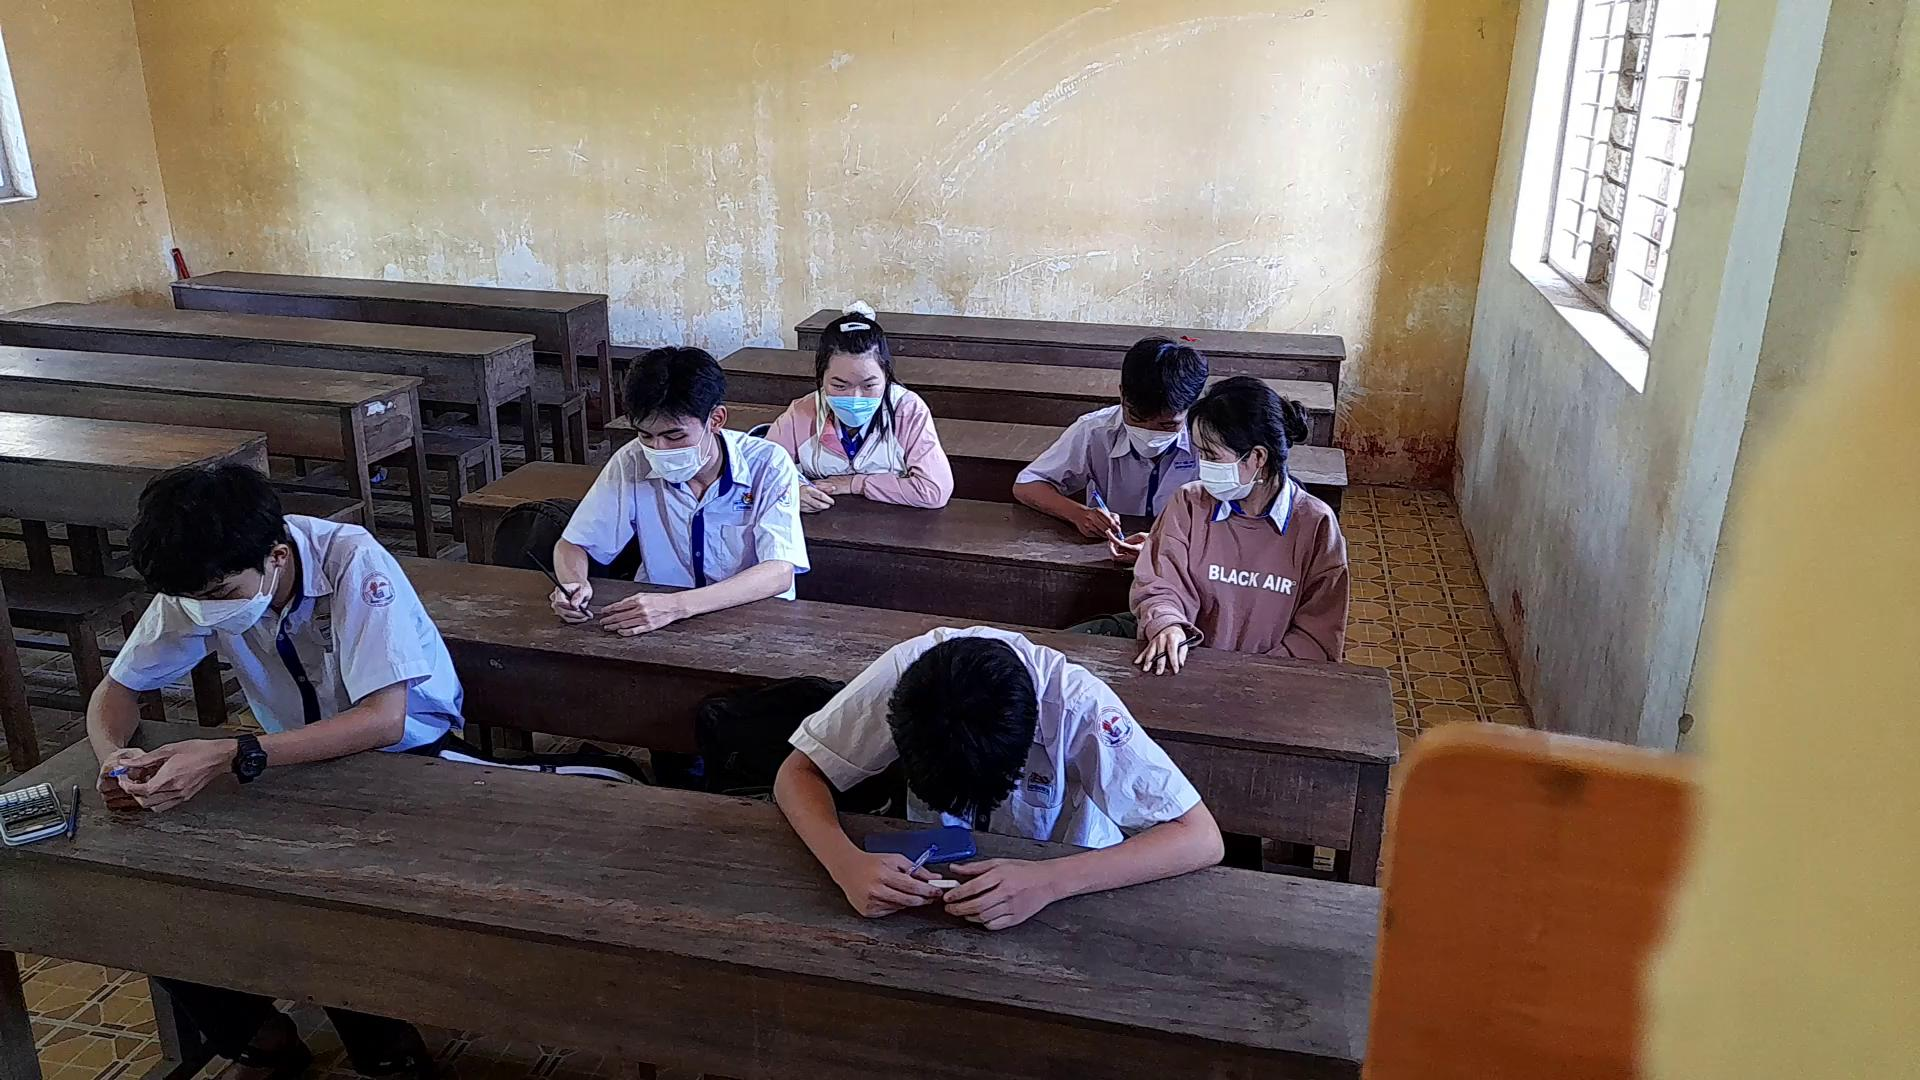Bend Over The Desk: (876, 628, 1056, 814)
Hand Under Table: (1262, 506, 1349, 665)
Look Around: (1184, 371, 1307, 529)
Normal: (80, 448, 480, 823), (527, 335, 814, 640), (740, 285, 964, 527), (1006, 324, 1196, 558)
